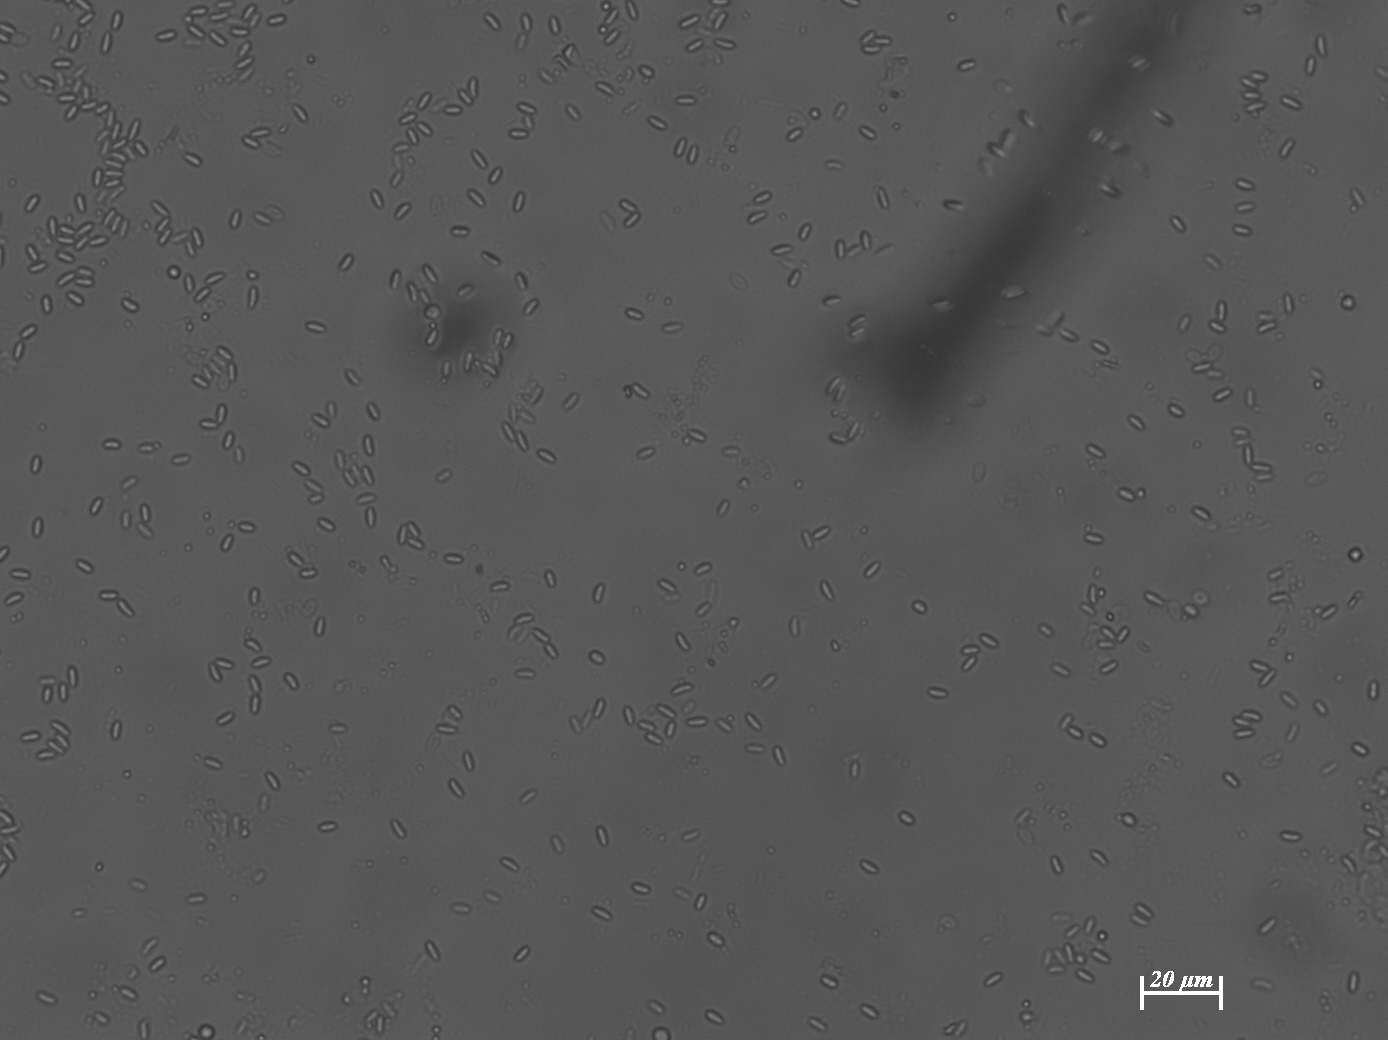spore: (215, 28, 241, 47), (55, 275, 78, 296), (116, 122, 137, 144), (535, 635, 556, 655), (67, 201, 85, 223), (69, 280, 90, 298), (406, 107, 427, 126), (61, 237, 84, 253), (247, 659, 265, 678), (395, 523, 413, 544), (236, 9, 257, 26), (641, 724, 660, 743), (711, 8, 728, 27), (622, 211, 641, 228), (1072, 956, 1091, 973), (1103, 627, 1123, 643), (472, 150, 488, 169), (597, 76, 617, 93), (151, 200, 168, 217), (746, 714, 763, 732), (292, 105, 308, 123), (237, 47, 253, 66), (100, 140, 119, 156), (1305, 52, 1324, 69), (127, 121, 142, 141), (24, 245, 40, 262), (142, 217, 159, 234), (1223, 772, 1241, 789), (1259, 671, 1277, 687), (448, 781, 464, 799), (565, 392, 581, 410), (339, 253, 355, 271), (602, 9, 619, 25), (389, 818, 405, 836), (25, 194, 41, 212), (56, 272, 72, 289), (109, 141, 127, 157), (686, 37, 704, 52), (109, 11, 124, 29), (265, 772, 281, 791), (47, 738, 66, 754), (110, 123, 126, 142), (52, 734, 71, 749), (820, 582, 834, 602), (1092, 622, 1112, 636), (449, 101, 468, 115), (470, 192, 486, 209), (696, 601, 712, 617), (61, 272, 78, 288), (861, 28, 877, 45), (1132, 905, 1149, 921), (456, 90, 473, 106), (514, 946, 531, 962), (67, 291, 83, 307), (962, 654, 978, 671), (406, 522, 423, 539), (239, 3, 256, 20), (1172, 217, 1188, 234), (424, 939, 440, 956), (199, 284, 215, 300), (1129, 416, 1147, 432), (567, 104, 582, 121), (862, 860, 879, 875), (118, 600, 133, 617), (1088, 442, 1105, 458), (49, 220, 64, 237), (210, 32, 227, 47), (785, 270, 800, 287), (394, 202, 410, 220), (835, 429, 853, 445), (55, 720, 72, 735), (484, 16, 501, 32), (513, 428, 529, 446), (98, 125, 114, 142), (465, 83, 481, 101), (1060, 713, 1076, 731), (673, 139, 687, 157), (1242, 75, 1260, 90), (1279, 140, 1293, 158), (90, 497, 104, 516), (387, 271, 401, 289), (1214, 387, 1233, 401), (249, 675, 263, 694), (1088, 947, 1106, 961), (1101, 635, 1119, 649), (99, 35, 112, 55), (593, 697, 606, 717), (593, 583, 606, 603), (512, 192, 525, 212), (110, 720, 123, 740), (64, 105, 80, 121), (419, 121, 435, 138), (134, 141, 150, 157), (67, 35, 82, 51), (533, 627, 549, 642), (634, 385, 651, 400), (912, 600, 928, 615), (543, 643, 559, 659), (861, 126, 877, 141), (295, 462, 311, 477), (677, 636, 692, 652), (150, 956, 166, 971), (21, 323, 37, 339), (288, 552, 305, 567), (707, 1009, 723, 1025), (524, 298, 539, 315), (1089, 733, 1105, 748), (238, 40, 253, 57), (190, 24, 206, 39), (707, 932, 723, 947), (1241, 82, 1257, 97), (392, 824, 407, 840), (1093, 851, 1110, 866), (283, 675, 299, 690), (2, 846, 17, 862), (344, 369, 359, 386), (645, 116, 662, 131), (687, 424, 703, 439), (108, 186, 123, 202), (867, 560, 883, 576), (248, 287, 260, 308), (488, 167, 502, 185), (109, 217, 123, 235), (1093, 341, 1111, 355), (593, 906, 610, 920), (102, 211, 116, 228), (1077, 969, 1094, 983), (747, 211, 764, 225), (367, 402, 381, 419), (693, 894, 708, 911), (304, 477, 321, 492), (370, 192, 384, 210), (105, 206, 119, 224), (846, 421, 861, 438), (117, 220, 131, 237), (1365, 825, 1383, 839), (1281, 695, 1298, 709), (664, 720, 677, 738), (12, 341, 25, 359), (774, 747, 787, 766), (866, 42, 885, 55), (1250, 661, 1270, 673), (194, 287, 210, 303), (166, 265, 181, 281), (153, 217, 168, 233), (1068, 725, 1083, 741), (984, 972, 999, 988), (863, 564, 878, 579), (1347, 547, 1362, 563), (506, 410, 521, 425), (220, 536, 234, 553), (661, 705, 677, 719), (158, 228, 173, 245), (652, 117, 668, 131), (123, 299, 140, 314), (713, 15, 727, 32), (1099, 661, 1115, 675), (402, 114, 418, 128), (983, 635, 999, 649), (417, 94, 431, 110), (820, 976, 837, 990), (1194, 507, 1210, 521), (44, 740, 58, 756), (428, 946, 442, 962), (28, 259, 45, 273), (505, 859, 521, 873), (218, 346, 235, 361), (1116, 627, 1130, 643), (1119, 488, 1136, 503), (539, 449, 556, 463), (76, 12, 93, 26), (186, 238, 200, 255), (589, 651, 605, 665), (75, 559, 92, 574), (812, 525, 829, 540), (685, 13, 701, 27), (61, 232, 78, 246), (519, 790, 535, 804), (211, 359, 225, 376), (508, 627, 524, 641), (828, 376, 842, 392), (237, 66, 253, 80), (520, 16, 534, 33), (679, 15, 696, 29), (137, 521, 153, 535), (471, 355, 487, 369), (437, 469, 453, 483), (838, 238, 852, 255), (531, 386, 545, 402), (130, 518, 146, 532), (987, 143, 1004, 157), (191, 228, 204, 246), (626, 308, 643, 321), (313, 415, 331, 428), (244, 137, 261, 150), (657, 579, 675, 592), (31, 520, 44, 537), (40, 296, 54, 314), (107, 152, 124, 165), (38, 991, 56, 1004), (627, 2, 640, 20), (467, 75, 481, 93), (515, 272, 529, 289), (191, 377, 210, 389), (229, 211, 241, 229), (74, 193, 86, 212), (549, 17, 561, 36), (210, 667, 224, 683), (378, 556, 392, 571), (112, 135, 128, 150), (406, 131, 420, 146), (79, 221, 94, 235), (604, 31, 619, 45), (620, 712, 636, 726), (190, 282, 205, 296), (543, 574, 558, 588), (318, 517, 333, 531), (1095, 929, 1111, 943), (186, 153, 201, 167), (899, 812, 914, 826), (595, 834, 610, 848), (844, 426, 858, 441), (389, 173, 403, 188), (449, 705, 463, 720), (1342, 859, 1356, 874), (515, 627, 530, 642), (761, 672, 776, 686), (94, 206, 108, 222), (201, 1026, 216, 1040), (1065, 923, 1080, 937), (1177, 316, 1191, 331), (103, 116, 117, 131), (222, 434, 235, 450), (343, 472, 356, 488), (204, 273, 221, 286), (1147, 593, 1163, 606), (215, 713, 232, 726), (810, 1017, 827, 1030), (4, 592, 21, 605), (595, 82, 612, 95), (1236, 178, 1253, 191), (1286, 97, 1303, 110), (690, 429, 707, 442), (218, 710, 235, 723), (418, 288, 431, 305), (271, 13, 287, 26), (1051, 859, 1064, 875), (862, 1005, 878, 1018), (364, 505, 377, 521), (173, 453, 189, 466), (847, 315, 864, 328), (788, 619, 802, 636), (830, 432, 846, 445), (497, 332, 510, 348), (122, 986, 139, 1000), (361, 465, 375, 482), (1087, 532, 1104, 544), (216, 403, 228, 421), (204, 758, 222, 770), (106, 161, 123, 173), (1131, 913, 1149, 925), (250, 696, 262, 713), (404, 281, 416, 298), (960, 645, 977, 657), (1244, 90, 1261, 102), (1060, 329, 1078, 341), (802, 532, 814, 549), (932, 687, 949, 699), (395, 139, 413, 151), (364, 437, 376, 454), (770, 245, 787, 257), (209, 12, 226, 24), (92, 168, 103, 187), (200, 417, 218, 428), (315, 617, 325, 636), (47, 218, 58, 237), (557, 57, 571, 71), (423, 306, 437, 320), (787, 127, 802, 141), (541, 71, 555, 85), (500, 421, 514, 435), (425, 270, 439, 284), (825, 383, 839, 398), (652, 1002, 666, 1016), (835, 101, 850, 115), (1314, 700, 1328, 714), (515, 101, 530, 115), (425, 331, 438, 346), (637, 719, 652, 732), (517, 437, 530, 452), (482, 364, 497, 377), (236, 57, 251, 70), (247, 640, 262, 653), (256, 212, 271, 225), (1054, 663, 1069, 676), (38, 75, 54, 88), (797, 226, 810, 241), (1167, 404, 1183, 417), (363, 472, 376, 487), (1080, 603, 1095, 616), (697, 560, 712, 574), (619, 199, 634, 212), (639, 446, 654, 459), (1352, 744, 1367, 757), (501, 333, 514, 348), (717, 499, 731, 515), (1340, 297, 1355, 310), (185, 244, 198, 259), (487, 253, 502, 267), (72, 63, 87, 76), (1269, 567, 1284, 580), (495, 328, 508, 343), (622, 11, 638, 24), (645, 733, 662, 745), (254, 655, 271, 667), (29, 459, 41, 475), (1095, 952, 1112, 964), (716, 38, 733, 50), (80, 101, 96, 113), (41, 687, 54, 704), (406, 539, 423, 551), (879, 193, 891, 210), (1305, 60, 1317, 76), (1211, 994, 1223, 1011), (140, 506, 152, 522), (1260, 319, 1277, 331), (522, 788, 538, 800), (75, 265, 92, 277), (210, 271, 226, 283), (834, 244, 846, 260), (120, 515, 132, 531), (1234, 716, 1251, 726), (634, 884, 652, 895), (1099, 627, 1113, 640), (74, 237, 88, 250), (115, 150, 129, 163), (62, 250, 76, 263), (523, 411, 537, 424), (88, 237, 103, 250), (809, 107, 822, 121), (829, 387, 842, 401), (695, 716, 709, 729), (640, 64, 654, 78), (1322, 604, 1337, 617), (1124, 813, 1137, 827), (62, 212, 75, 226), (126, 966, 140, 979), (456, 283, 471, 296), (1184, 604, 1198, 617), (1163, 972, 1175, 988), (522, 103, 537, 115), (308, 492, 323, 504), (518, 612, 533, 624), (299, 568, 315, 580), (1194, 361, 1209, 373), (322, 820, 337, 832), (1281, 96, 1296, 108), (1210, 321, 1225, 333), (405, 287, 417, 303), (360, 492, 376, 504), (683, 828, 698, 840), (249, 591, 261, 606), (850, 765, 862, 780), (463, 755, 474, 771), (37, 751, 54, 761), (307, 322, 323, 333), (228, 366, 239, 382), (715, 721, 732, 732), (688, 147, 698, 165), (93, 175, 106, 188), (466, 358, 479, 371), (103, 157, 120, 167), (1138, 985, 1148, 1003), (561, 44, 574, 57), (953, 1021, 966, 1035), (752, 675, 766, 688), (396, 532, 408, 546), (183, 279, 195, 293), (673, 684, 687, 696), (354, 493, 368, 505), (1149, 981, 1163, 993), (1246, 101, 1260, 113), (1255, 321, 1269, 333), (679, 682, 693, 694), (1283, 830, 1297, 842), (481, 251, 495, 263), (849, 326, 863, 338), (989, 972, 1004, 984), (1213, 976, 1224, 991), (57, 58, 72, 69), (103, 439, 118, 450), (550, 54, 566, 64), (757, 191, 772, 202), (156, 31, 171, 42), (14, 568, 29, 579), (1104, 359, 1119, 370), (24, 731, 39, 742), (394, 143, 410, 154), (852, 314, 867, 324), (863, 45, 879, 55), (254, 127, 271, 137), (677, 96, 693, 106), (439, 724, 455, 734), (926, 688, 942, 698), (1202, 976, 1214, 989), (961, 59, 974, 71), (1348, 594, 1360, 607), (96, 102, 109, 114), (238, 827, 251, 839), (1090, 567, 1103, 579), (615, 47, 628, 59), (734, 275, 747, 287), (1367, 688, 1379, 701), (105, 178, 119, 189), (365, 513, 376, 528), (58, 93, 72, 104), (59, 225, 73, 236), (100, 590, 115, 601), (463, 358, 474, 373), (193, 4, 207, 15), (687, 717, 701, 728), (603, 92, 617, 103), (1253, 101, 1267, 111), (1096, 587, 1107, 601), (443, 361, 454, 375), (57, 236, 72, 246), (1246, 712, 1261, 722), (446, 106, 461, 116), (1237, 728, 1253, 737), (230, 27, 246, 37), (1235, 226, 1250, 236), (1099, 638, 1114, 648), (1253, 72, 1268, 82), (375, 1018, 384, 1033), (1271, 591, 1286, 601), (0, 547, 10, 563), (212, 10, 227, 20), (1233, 427, 1248, 437), (1051, 965, 1066, 974), (1150, 977, 1162, 989), (1183, 974, 1195, 986), (11, 611, 23, 623), (861, 239, 873, 251), (359, 977, 371, 989), (223, 73, 235, 85), (620, 386, 631, 399), (363, 446, 376, 457), (57, 688, 68, 701), (944, 1023, 957, 1033), (746, 743, 759, 754), (1039, 625, 1052, 636), (1140, 640, 1151, 653), (514, 130, 529, 140), (448, 555, 462, 565), (91, 235, 105, 245), (76, 279, 91, 288), (451, 226, 465, 236), (518, 667, 532, 677), (239, 522, 253, 532), (497, 582, 511, 592), (663, 322, 677, 332), (1, 824, 15, 834), (944, 201, 958, 211), (775, 245, 791, 253), (1100, 358, 1115, 367), (1254, 462, 1269, 471), (1105, 611, 1116, 623), (716, 641, 728, 652), (1278, 624, 1289, 636), (948, 11, 959, 23), (1199, 976, 1209, 989), (482, 612, 491, 625), (493, 582, 506, 592), (877, 36, 890, 46), (99, 257, 109, 270), (822, 296, 835, 306), (252, 610, 265, 619), (1208, 988, 1222, 996), (221, 661, 235, 670), (1248, 461, 1262, 470), (0, 863, 9, 877), (1237, 202, 1251, 211), (830, 640, 841, 651), (602, 1, 613, 12), (1250, 109, 1261, 120), (204, 525, 215, 536), (0, 94, 11, 105), (1179, 977, 1189, 989), (1151, 970, 1161, 982), (276, 123, 288, 133), (247, 271, 259, 281), (551, 67, 563, 76), (707, 658, 716, 670), (438, 374, 450, 383), (387, 564, 399, 574), (861, 524, 870, 536), (93, 862, 105, 872), (342, 994, 352, 1006), (190, 895, 203, 903), (627, 68, 636, 81), (140, 445, 153, 453), (1149, 988, 1163, 995), (1188, 976, 1198, 986), (482, 379, 493, 389), (1202, 989, 1219, 995), (367, 1018, 377, 1029), (520, 393, 531, 403), (1178, 986, 1189, 996), (1314, 379, 1324, 390), (1193, 990, 1208, 996), (677, 562, 687, 571), (1076, 956, 1086, 966), (1268, 636, 1278, 646), (663, 297, 673, 307), (307, 55, 317, 64), (595, 25, 606, 34), (1138, 1001, 1147, 1012), (879, 103, 888, 114), (404, 156, 415, 165), (1082, 523, 1093, 532), (728, 618, 739, 627), (428, 549, 439, 558), (1230, 114, 1241, 122), (1314, 444, 1325, 452), (1139, 976, 1146, 990), (1218, 974, 1225, 986), (673, 931, 685, 938), (849, 0, 861, 8), (428, 321, 438, 330), (1021, 1000, 1031, 1008), (203, 511, 212, 521), (725, 714, 735, 723), (186, 322, 194, 332), (123, 769, 132, 779), (727, 144, 737, 153), (1185, 990, 1198, 996), (829, 410, 839, 418), (116, 664, 124, 674), (1156, 990, 1170, 996), (227, 520, 236, 530), (185, 543, 193, 553), (0, 34, 10, 43), (667, 930, 677, 938), (0, 71, 9, 81), (740, 476, 749, 486), (890, 122, 901, 130), (201, 314, 210, 322), (1147, 381, 1155, 390), (358, 614, 367, 623), (617, 87, 626, 96), (1285, 653, 1295, 661), (1218, 1002, 1225, 1012), (257, 1032, 266, 1040), (416, 765, 426, 772), (197, 348, 206, 356), (1059, 811, 1069, 818), (1143, 991, 1156, 996), (430, 1027, 441, 1033), (109, 179, 118, 187), (1165, 974, 1173, 983), (422, 127, 430, 134), (187, 1035, 199, 1040), (1205, 977, 1212, 984), (723, 164, 731, 172), (90, 992, 97, 1000), (1185, 977, 1191, 984), (950, 14, 957, 20), (187, 327, 193, 332)
